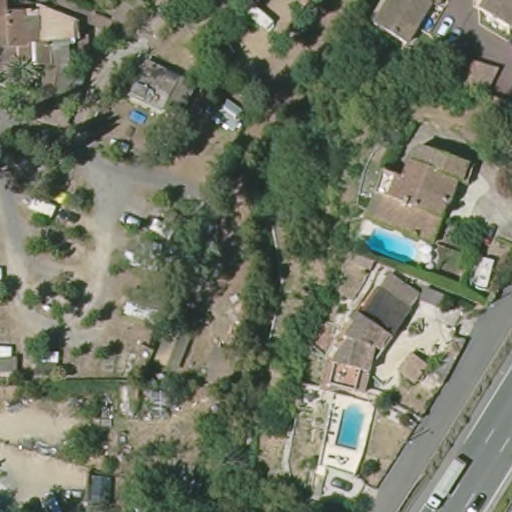pool: (360, 224, 426, 266), (332, 399, 365, 452)
